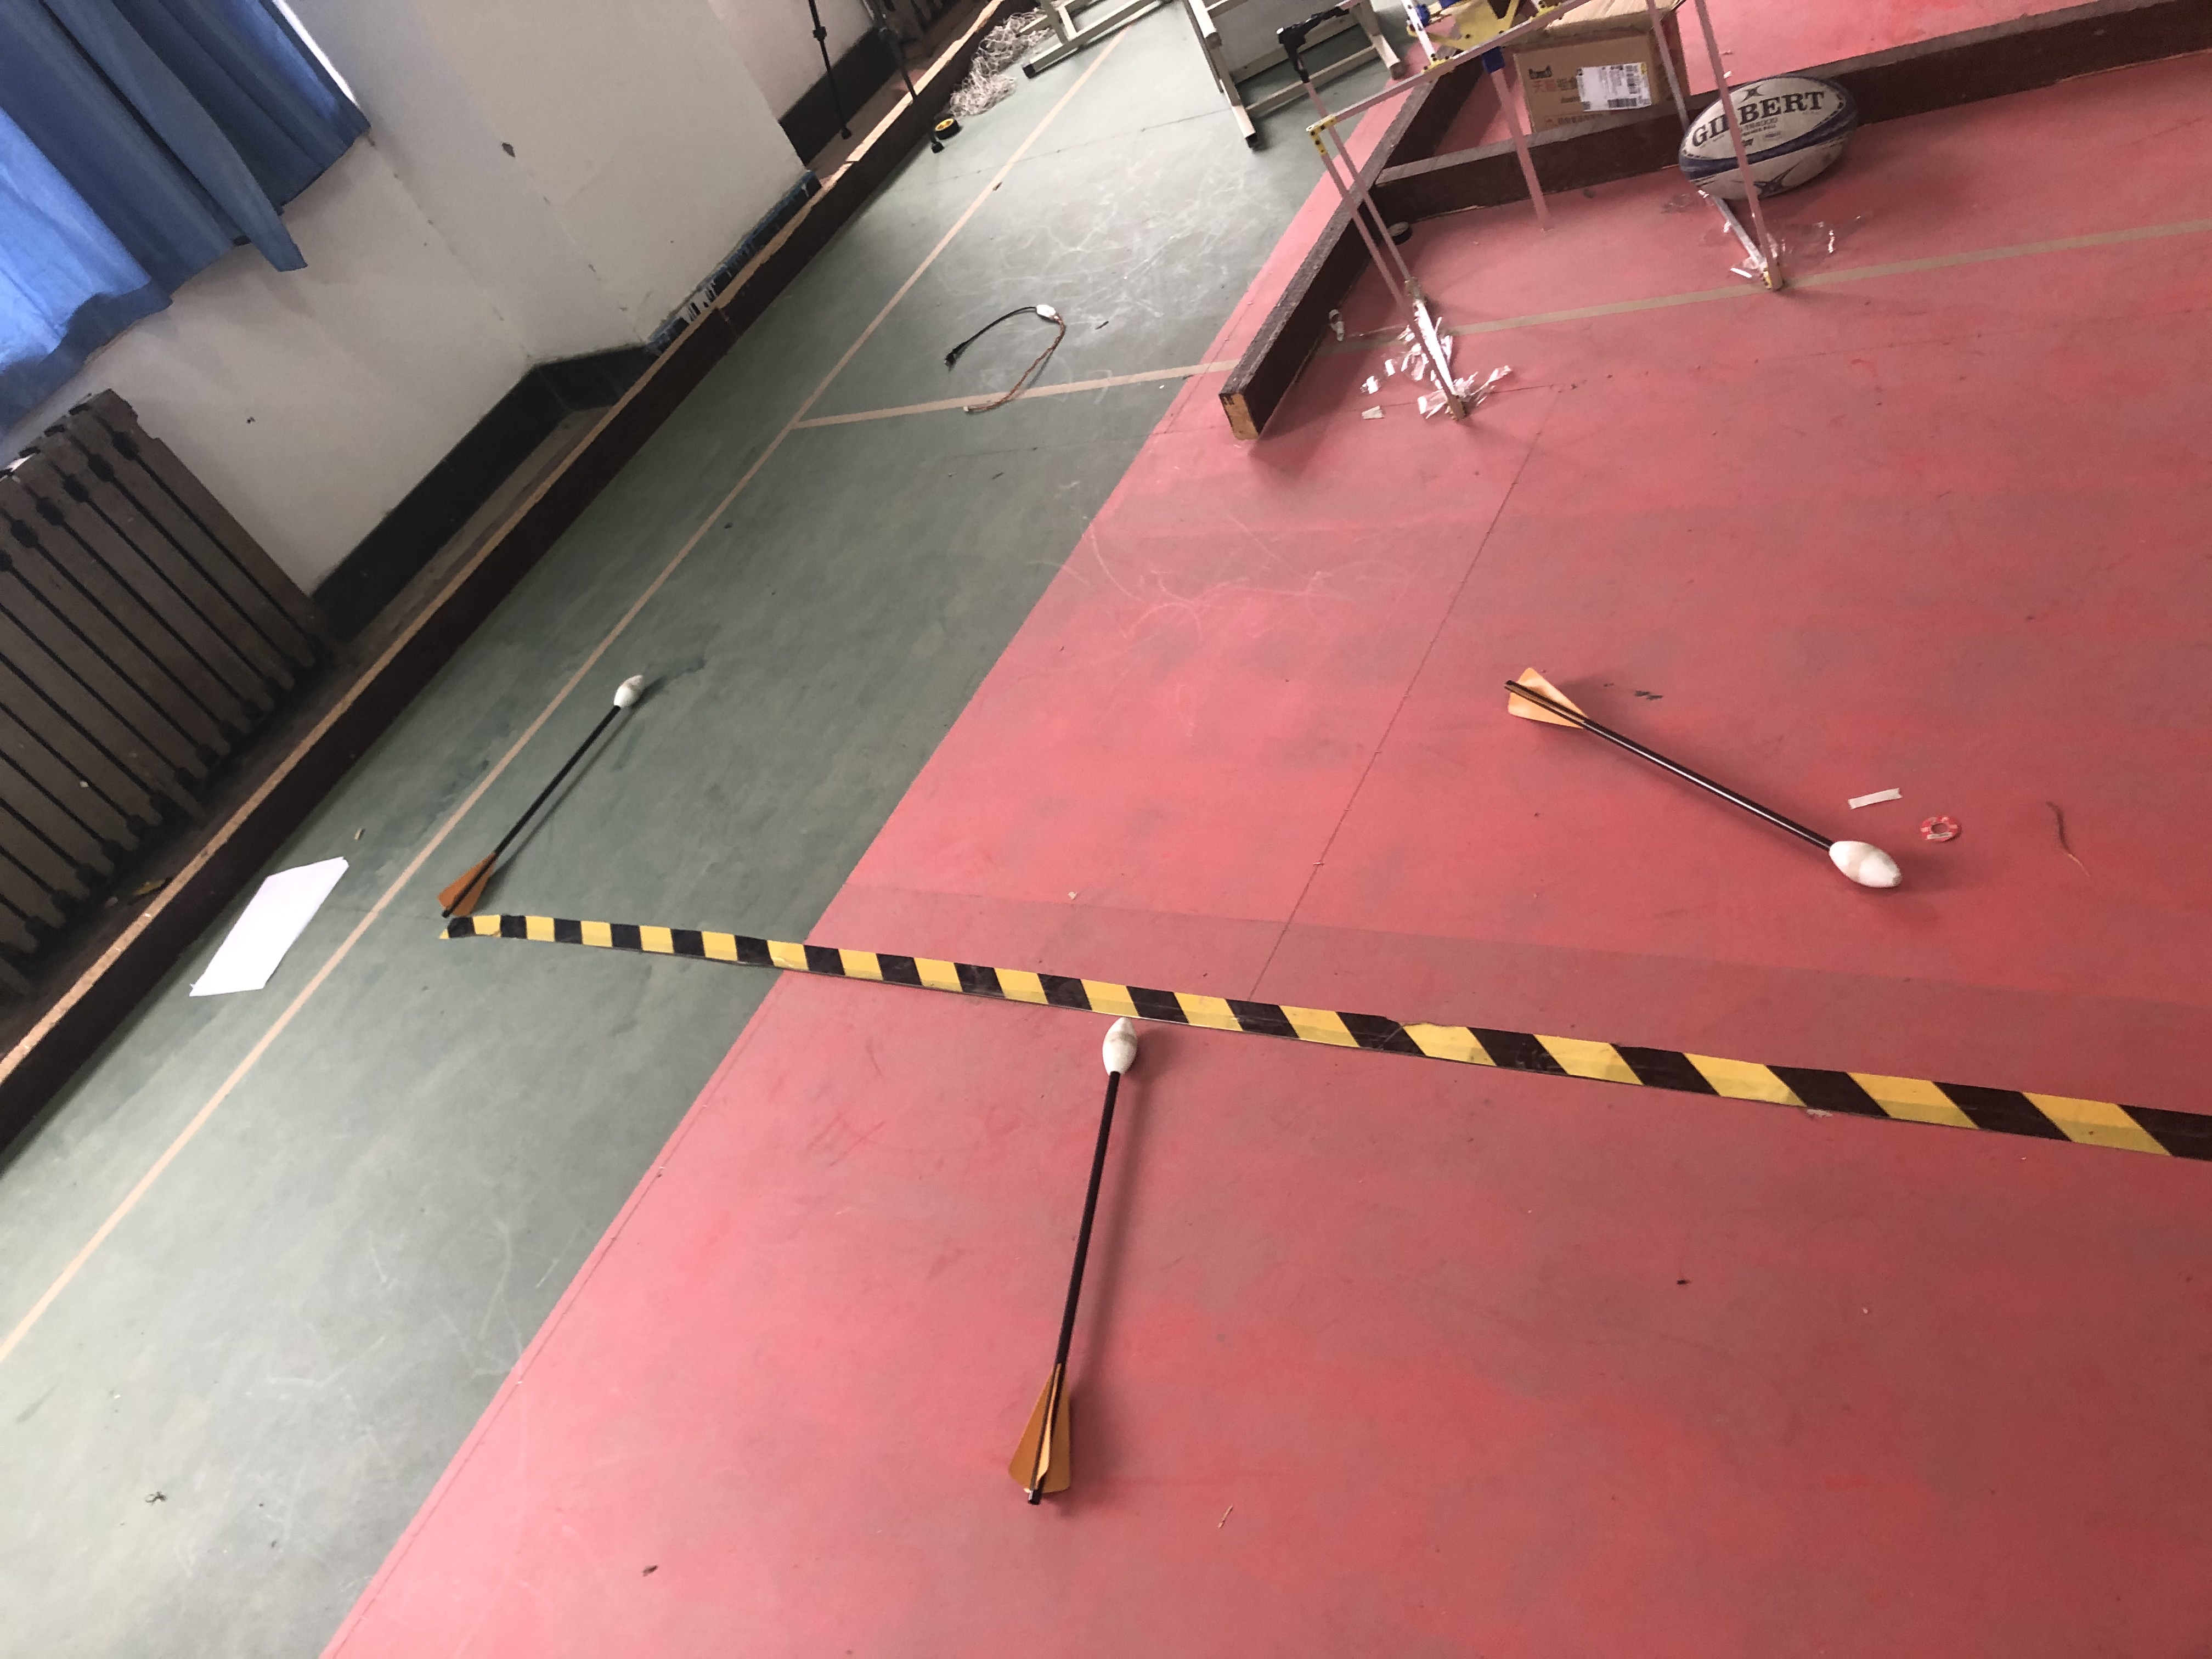arrow: (1482, 660, 1911, 913), (1008, 1021, 1150, 1521), (437, 671, 648, 915)
arrowFront: (1820, 836, 1905, 889), (1099, 1018, 1143, 1084), (608, 669, 648, 709)
